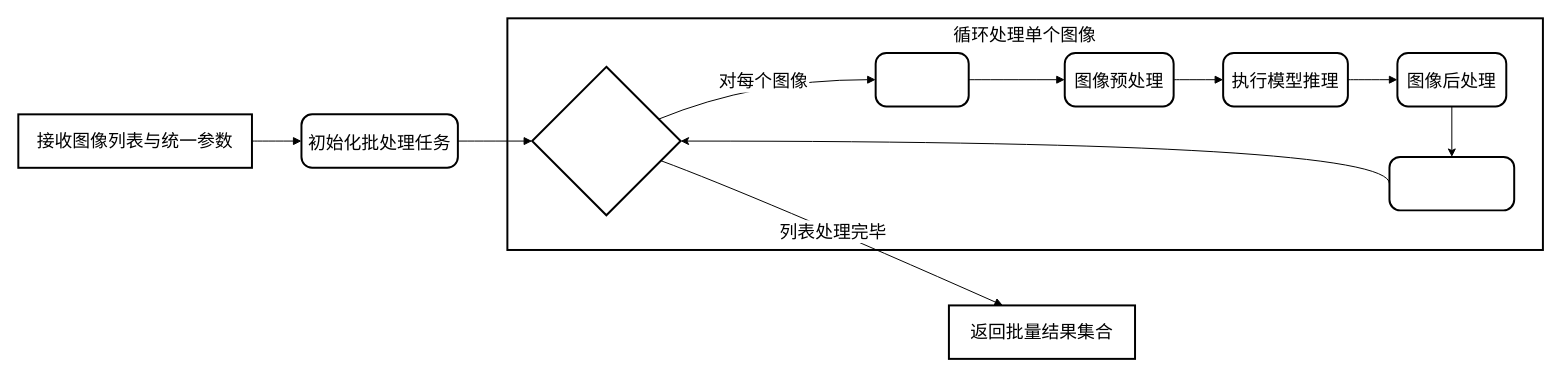
Image size: 1560x376. Some labels were removed from this diagram. The shapes that lost their labels are listed below. From the top down, each one's centre as x and y in pixels, then its label:
At point 921,79: "加载模型".
At point 606,140: "遍历图像列表".
At point 1451,183: "收集增强结果".
